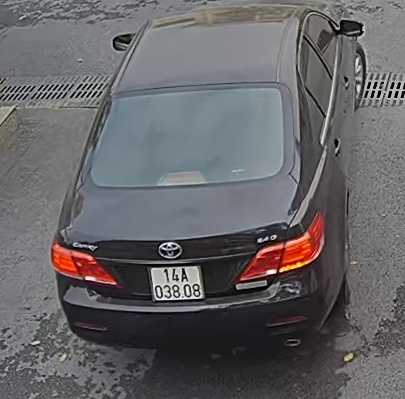vehicle plate: (143, 264, 209, 305)
